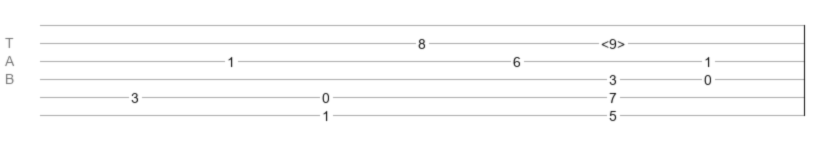0: (322, 90, 330, 100), (704, 72, 712, 82)
1: (227, 54, 235, 64), (322, 108, 330, 118), (704, 54, 712, 64)
3: (131, 90, 139, 100), (609, 72, 617, 82)
5: (609, 108, 617, 118)
6: (513, 54, 521, 64)
7: (609, 90, 617, 100)
8: (418, 36, 426, 46)
harmonic: (601, 36, 625, 46)
